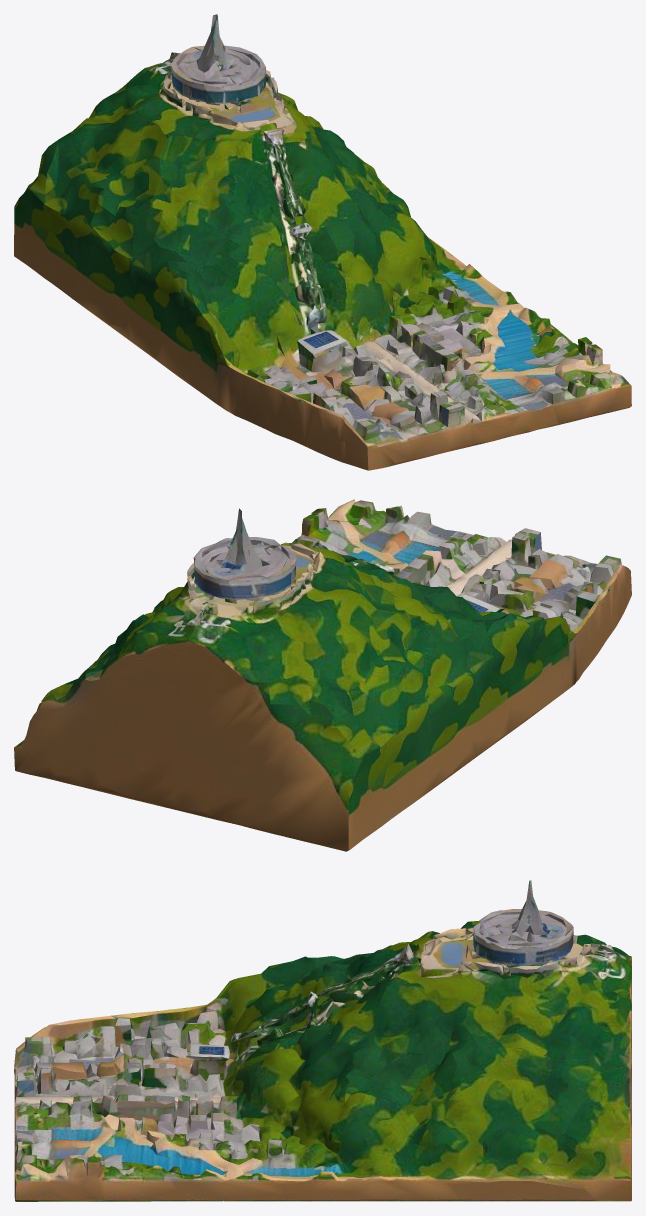
The model's file is mount-moiwa.glb.
3 renders of one model, top to bottom at view 1: azimuth 30°, elevation 25°; view 2: azimuth 150°, elevation 25°; view 3: azimuth 270°, elevation 25°, orthographic. The views are drawn at different scales.
Parts seen in each view (by area): view 1: logan-textured.obj; view 2: logan-textured.obj; view 3: logan-textured.obj.
Boxes of the visible parts, <box> form: logan-textured.obj: <box>14,14,631,470</box>; logan-textured.obj: <box>14,499,631,851</box>; logan-textured.obj: <box>14,880,631,1201</box>.
Size of the model in its own units: 0.584 by 0.4371 by 1.
Materials: 1 (1 with a texture image).
